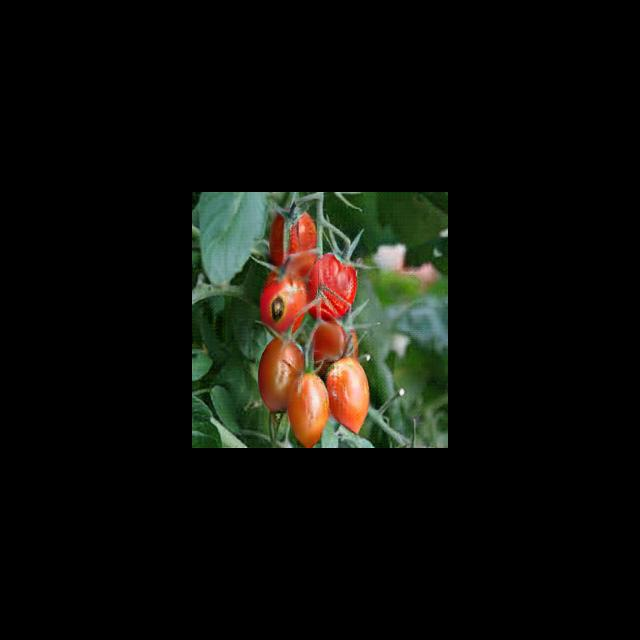tomato: (327, 357, 373, 437), (291, 375, 332, 446), (310, 255, 355, 318), (258, 274, 310, 328)
